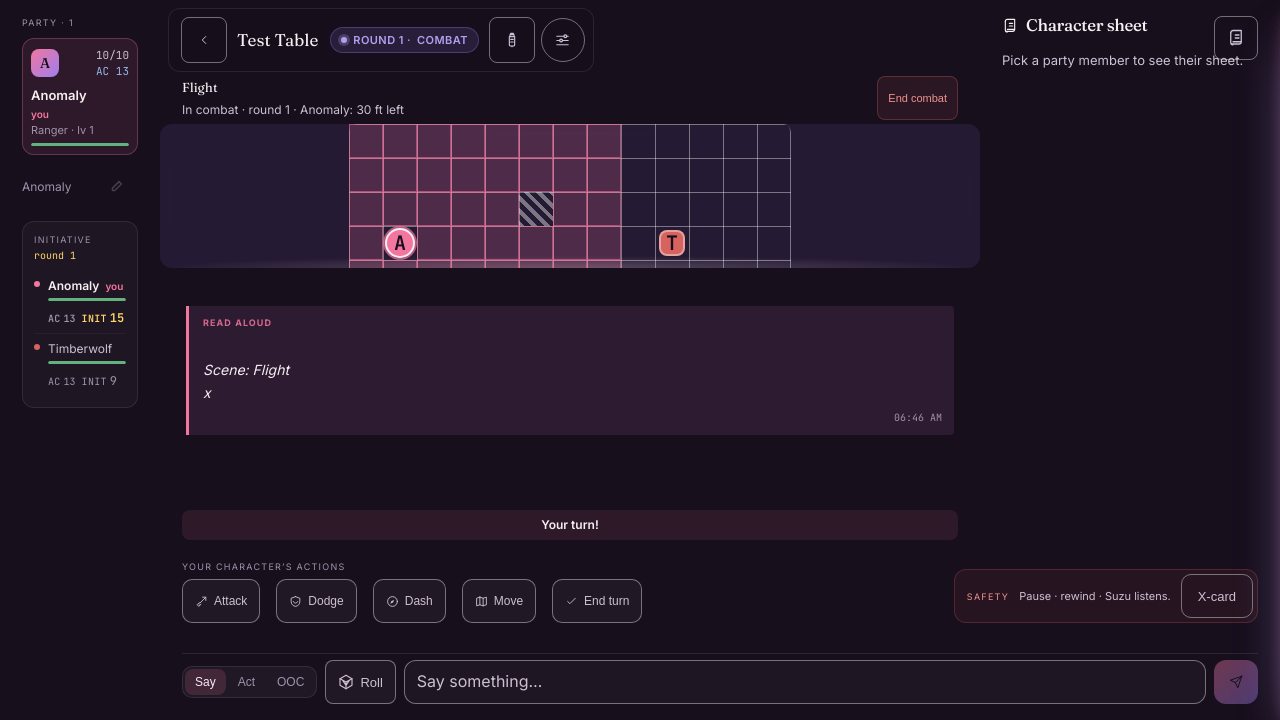
Test: refusals: the copy in the action bar's alert, never re-sent, and where focus and Move end up › 400 invalid_destination: still armed, focus where it was
The width and height of the screenshot is (1280, 720).
Expected: the text "Test Table" is shown, top-left (237, 27), bottom-right (318, 53)
Expected: the cell named "Row 1, column 1. Empty." is shown, top-left (349, 124), bottom-right (383, 158)
Click the button "Move".
click(499, 601)  # box top-left (462, 579), bottom-right (536, 623)
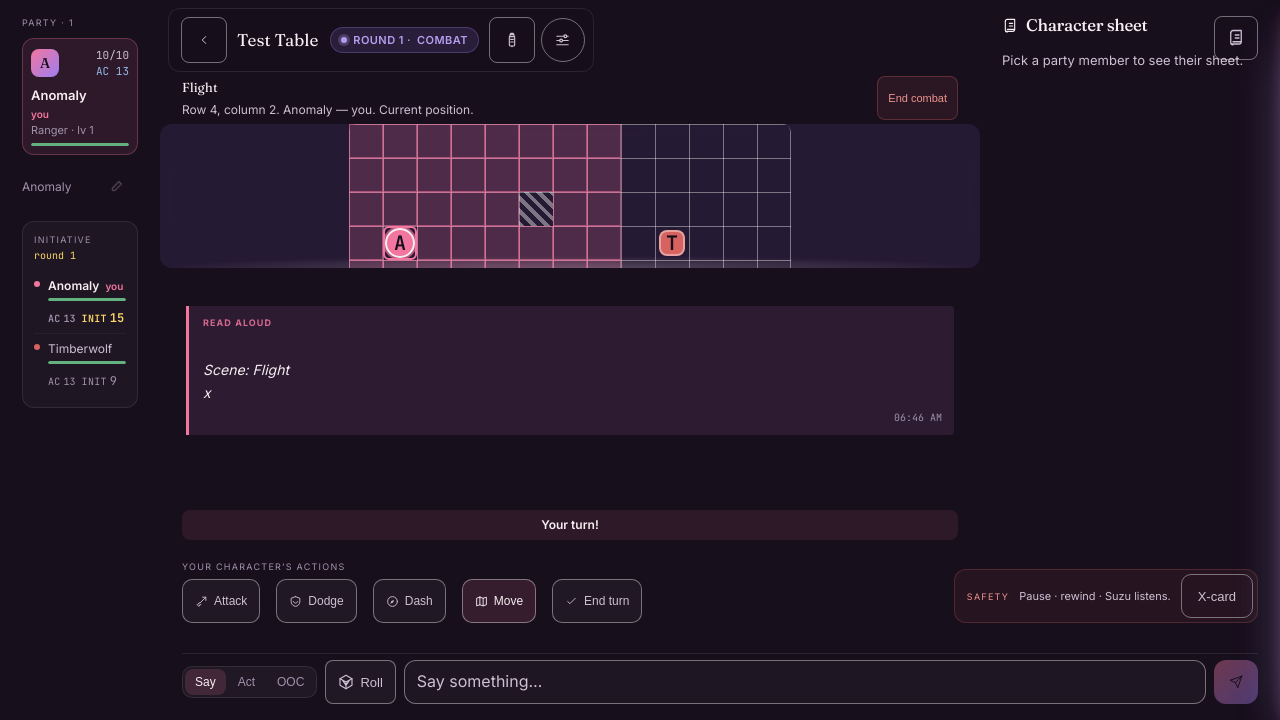
Press ArrowRight in the cell "A", box top-left (387, 230), bottom-right (413, 256)
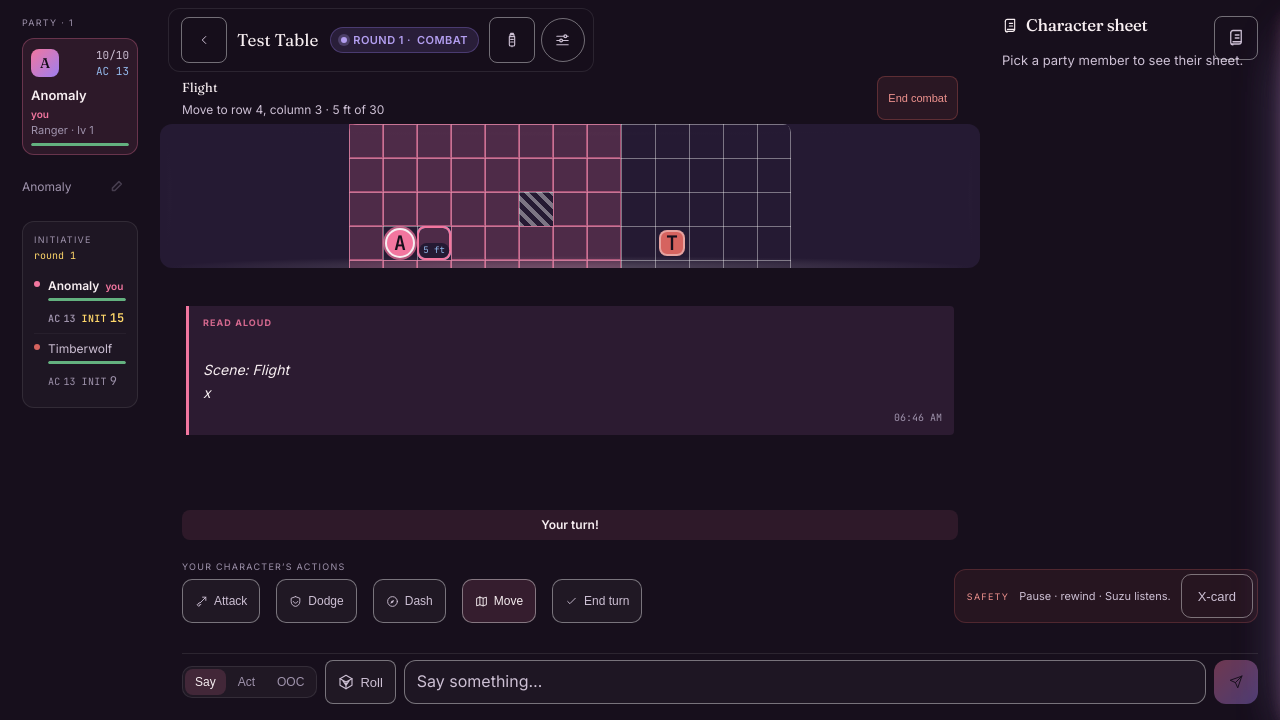
Press Enter in the cell "5 ft", box top-left (417, 226), bottom-right (451, 260)
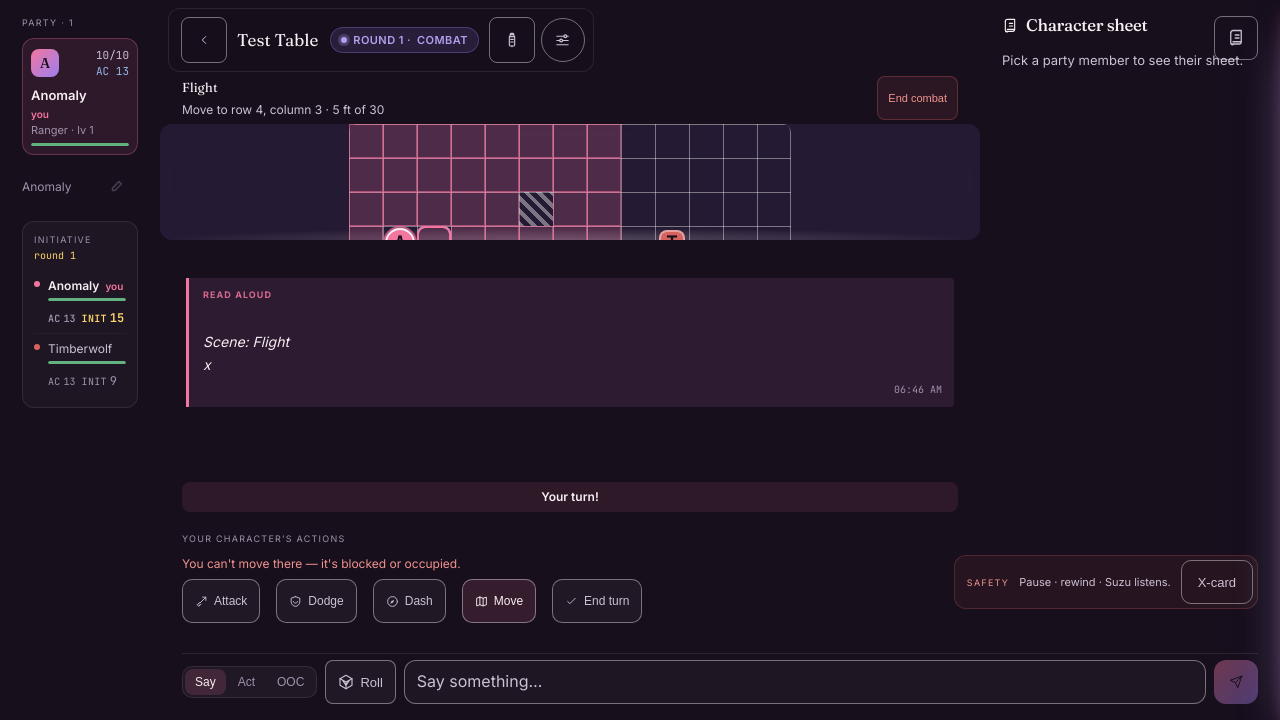
Expected: the message "You can't move there — it's blocked or occupied." is shown, top-left (182, 556), bottom-right (461, 571)
